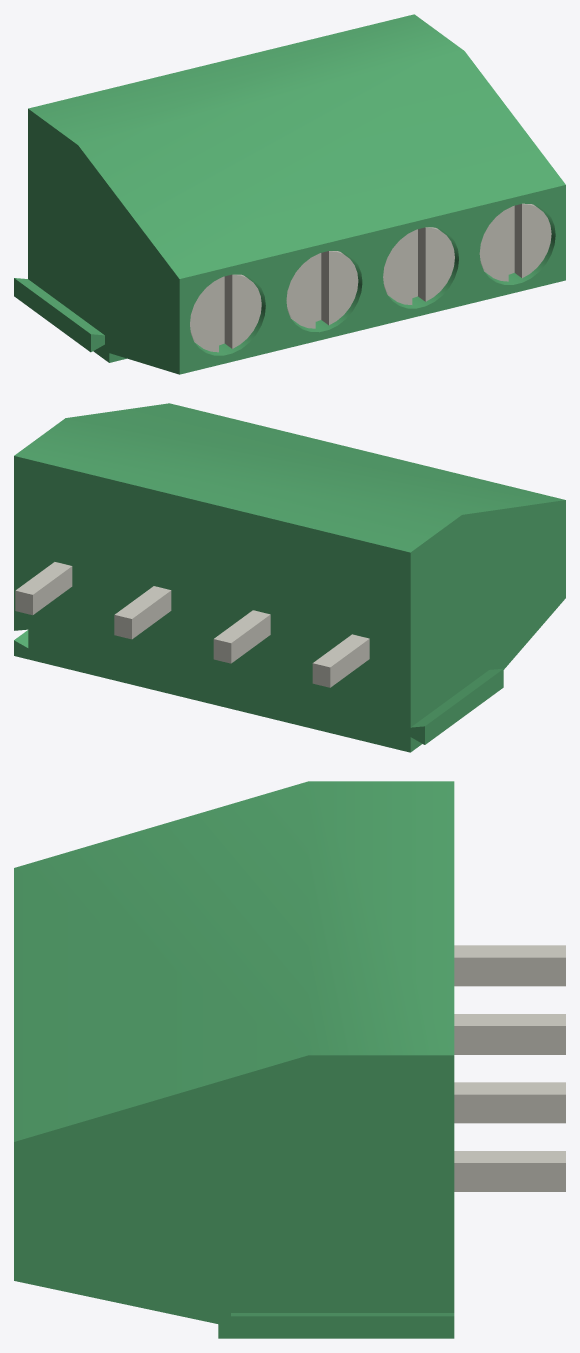
File: terminal-4-p5.08.glb
3 views of the same model, one above another, from view 1: azimuth 30°, elevation 25°; view 2: azimuth 150°, elevation 25°; view 3: azimuth 270°, elevation 25° (orthographic). The views are drawn at different scales.
Parts seen in each view (by area): view 1: PLASTIC-GREEN-01 (×3), PIN-01; view 2: PLASTIC-GREEN-01, PIN-01; view 3: PLASTIC-GREEN-01, PIN-01.
Part boxes in pixels (left/top/right/bottom): PLASTIC-GREEN-01 (×3): left=14, top=14, right=565, bottom=374; PIN-01: left=190, top=204, right=551, bottom=352; PLASTIC-GREEN-01: left=14, top=403, right=565, bottom=752; PIN-01: left=15, top=562, right=369, bottom=687; PLASTIC-GREEN-01: left=14, top=781, right=454, bottom=1338; PIN-01: left=454, top=945, right=565, bottom=1191.
Size of the model in its own units: 21.06 by 9.8 by 17.3.
